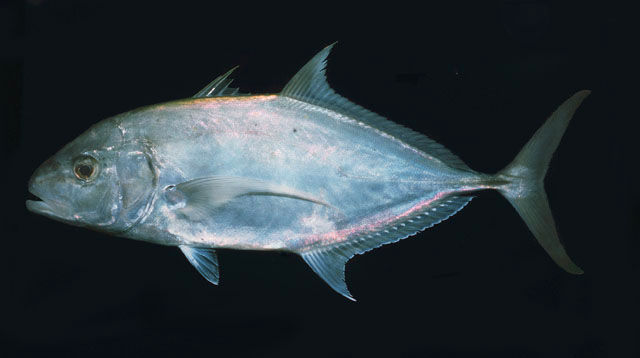fish: (25, 41, 593, 301)
